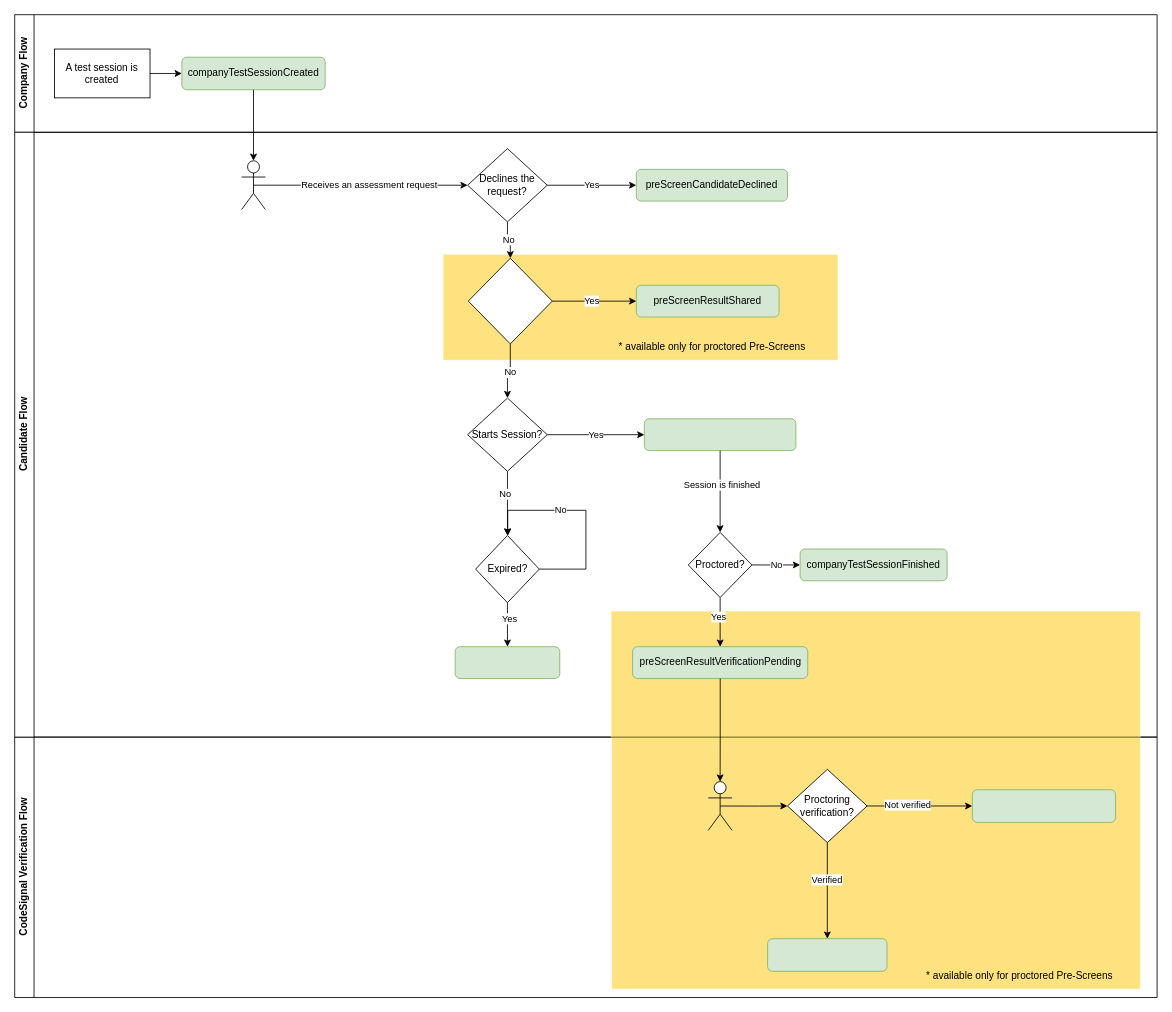
Image size: 1172x1012. Some labels were removed from this diagram. Here are the shapes that lost their labels. From the top down, the centre of each, then its label:
At (253,185): "Candidate".
At (509,300): "Share existing result?".
At (720,434): "companyTestSessionStarted".
At (507,662): "preScreenExpired".
At (719,805): "Codesignal Auditor".
At (1043,805): "preScreenResultNotVerfiied".
At (827,954): "preScreenResultVerified".
